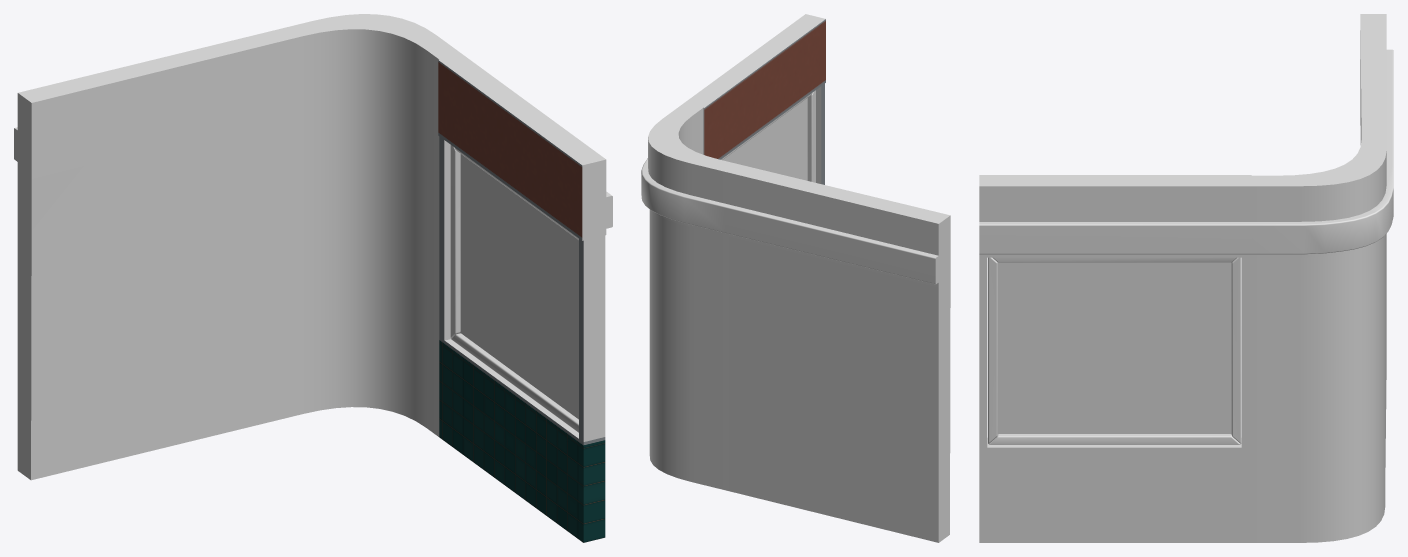
File: SM_Rounded_RR_Corner.fbx
3 renders of one model, left to right at view 1: azimuth 30°, elevation 25°; view 2: azimuth 150°, elevation 25°; view 3: azimuth 270°, elevation 25°, orthographic. The views are drawn at different scales.
Parts seen in each view (by area): view 1: SM_Update_Rounded_RR_Corner_v001; view 2: SM_Update_Rounded_RR_Corner_v001; view 3: SM_Update_Rounded_RR_Corner_v001.
Boxes of the visible parts, x1=… form: SM_Update_Rounded_RR_Corner_v001: x1=14, y1=14, x2=612, y2=542; SM_Update_Rounded_RR_Corner_v001: x1=641, y1=14, x2=950, y2=542; SM_Update_Rounded_RR_Corner_v001: x1=979, y1=14, x2=1393, y2=542.
Bounding box in the file's own units: 3.15 × 3 × 3.15.
Materials: 5 (1 with a texture image).
